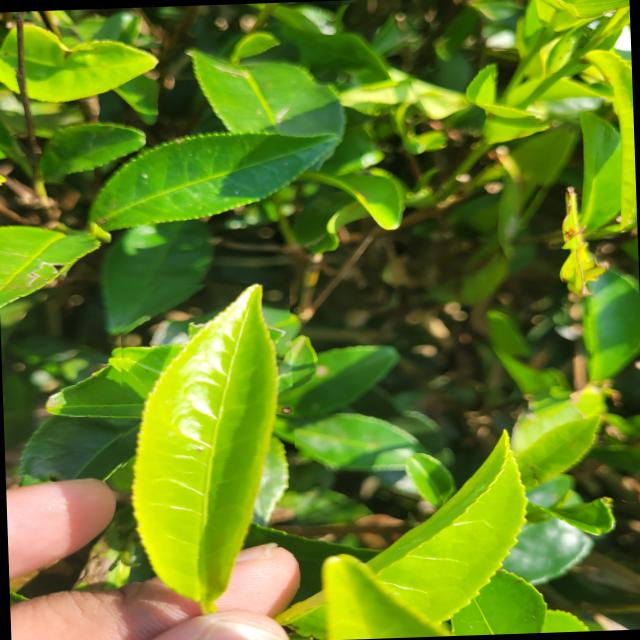Catagory A(1-2 days): (111, 280, 300, 612)
